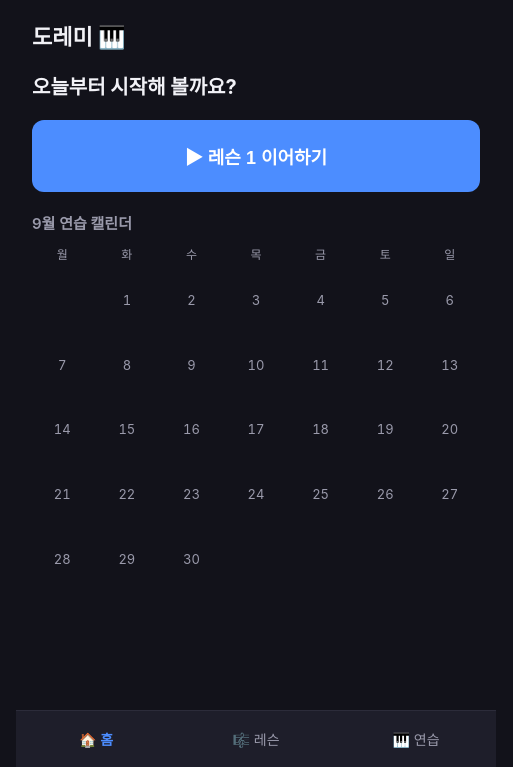
Test: 진도 저장 › 저장된 currentStep 이 다른 레슨 것이면 무시하고 처음부터 시작한다
This screenshot has width=513, height=767.
Click the tab "🎼 레슨" at (256, 739), box [176,711,336,766]
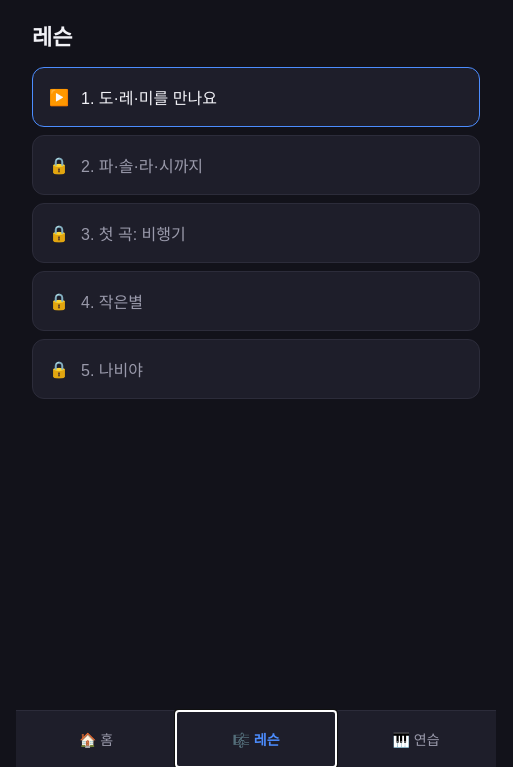
Click the button "▶️ 1. 도·레·미를 만나요" at (158, 98), box [32,67,480,127]
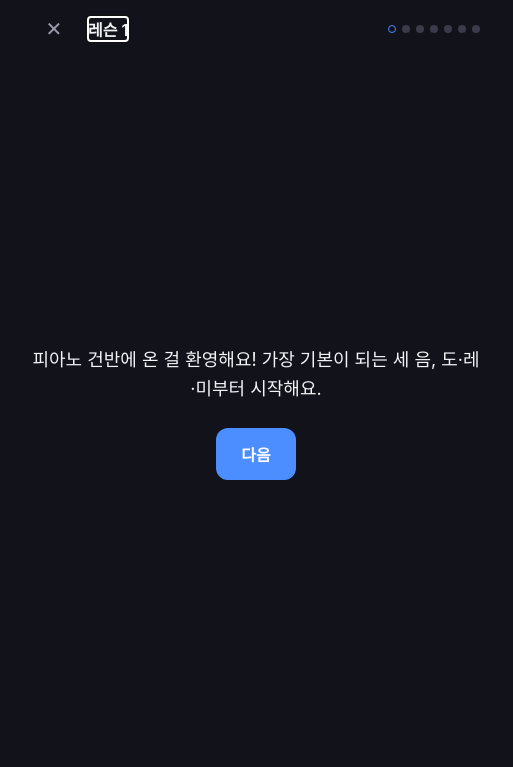
Now the text "피아노 건반에 온 걸 환영해요! 가장 기본이 되는 세 음, 도·레·미부터 시작해요." is shown, box [32,346,480,404]
